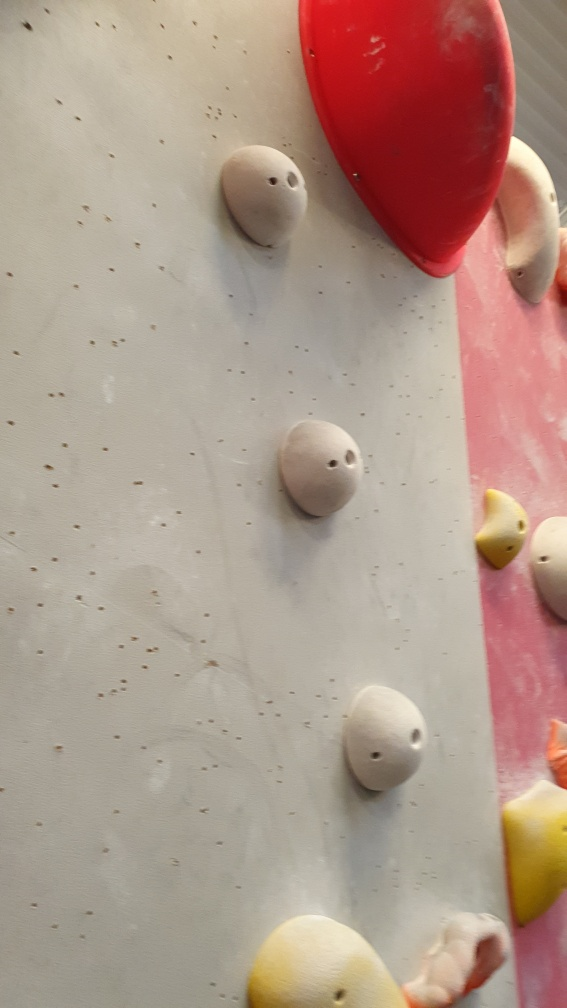Jug: (400, 907, 516, 1005)
Sloper: (219, 144, 314, 251), (278, 410, 367, 521), (343, 682, 428, 798), (524, 510, 567, 622)
